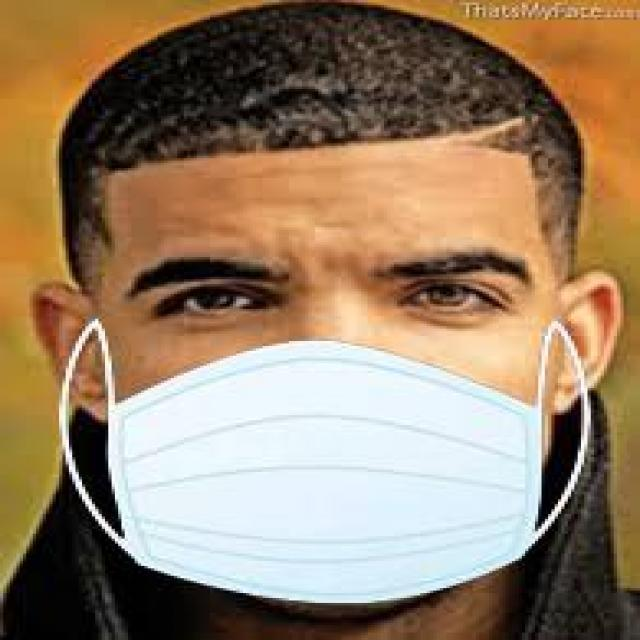1_mascarilla: (59, 323, 598, 604)
